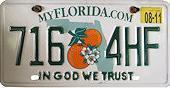placa de veiculo: (1, 0, 163, 87)
